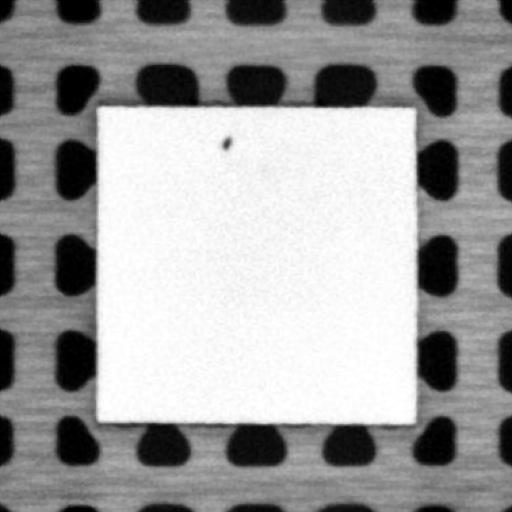DIE_INK: (220, 131, 232, 150)
